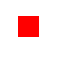square: (18, 16, 38, 36)
